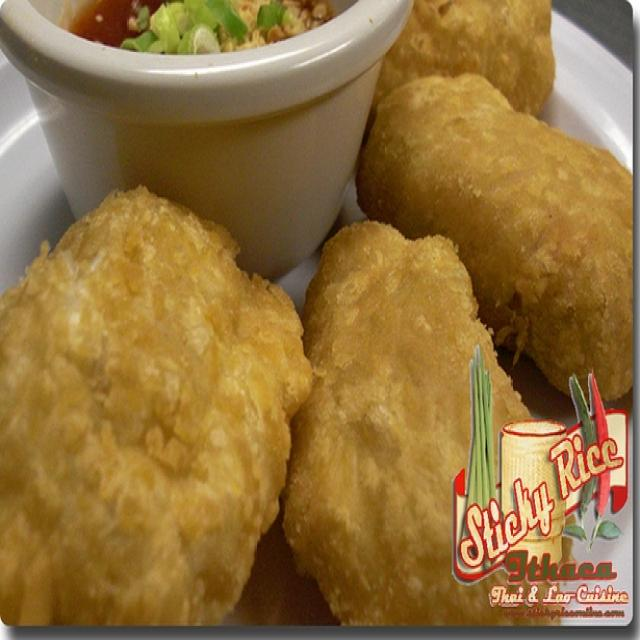炸货点心: (14, 25, 608, 610)
